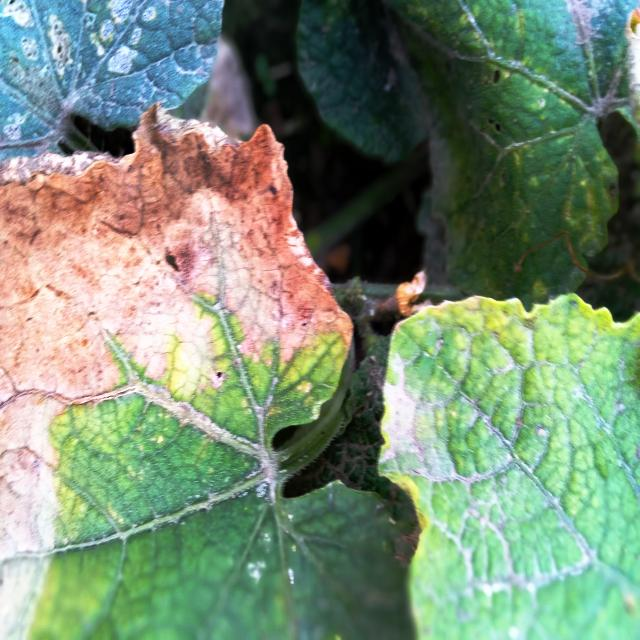Gummy-Stem-Blight: (0, 101, 353, 640)
